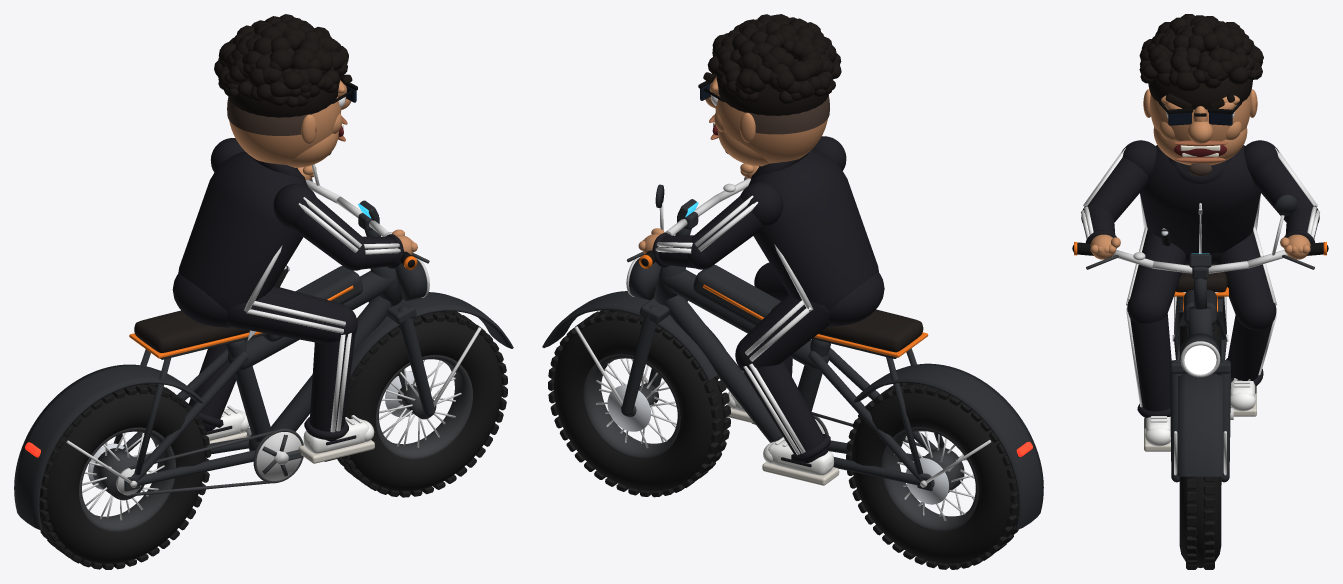
Rendered from fatbiker.glb.
3 views of the same model, side by side, from view 1: azimuth 30°, elevation 25°; view 2: azimuth 150°, elevation 25°; view 3: azimuth 270°, elevation 25° (orthographic). The views are drawn at different scales.
Parts seen in each view (by area): view 1: Bike_Frame, Bike_WheelRear, Bike_WheelFront, Rider_Torso, Rider_Hair, Rider_LegR, Rider_ArmR, Rider_Head, Rider_LegL, Bike_Crank, Bike_Handlebar, Rider_ArmL; view 2: Bike_Frame, Bike_WheelFront, Bike_WheelRear, Rider_Torso, Rider_Hair, Rider_LegL, Rider_ArmL, Rider_Head, Bike_Handlebar, Rider_LegR, Rider_ArmR; view 3: Bike_Frame, Rider_Torso, Rider_Hair, Rider_LegR, Rider_LegL, Rider_Head, Rider_ArmR, Rider_ArmL, Bike_WheelFront, Bike_Handlebar, Rider_Sunglasses, Bike_WheelRear.
Boxes of the visible parts, x1,y1,x2,y2 form: Bike_Frame: (14, 258, 513, 530); Bike_WheelRear: (39, 383, 210, 569); Bike_WheelFront: (337, 311, 507, 497); Rider_Torso: (172, 151, 308, 327); Rider_Hair: (214, 14, 348, 135); Rider_LegR: (227, 286, 374, 463); Rider_ArmR: (273, 183, 417, 270); Rider_Head: (229, 74, 352, 167); Rider_LegL: (188, 339, 249, 443); Bike_Crank: (210, 428, 348, 483); Bike_Handlebar: (306, 164, 429, 269); Rider_ArmL: (210, 138, 316, 180); Bike_Frame: (542, 257, 1043, 529); Bike_WheelFront: (548, 310, 730, 497); Bike_WheelRear: (846, 383, 1018, 569); Rider_Torso: (748, 149, 884, 326); Rider_Hair: (707, 14, 841, 134); Rider_LegL: (735, 294, 839, 485); Rider_ArmL: (638, 182, 783, 269); Rider_Head: (703, 72, 827, 166); Bike_Handlebar: (627, 176, 750, 268); Rider_LegR: (727, 262, 792, 423); Rider_ArmR: (740, 136, 846, 178); Bike_Frame: (1170, 263, 1230, 482); Rider_Torso: (1140, 145, 1260, 263); Rider_Hair: (1139, 14, 1263, 109); Rider_LegR: (1126, 227, 1186, 451); Rider_LegL: (1216, 227, 1277, 416); Rider_Head: (1143, 89, 1257, 176); Rider_ArmR: (1081, 140, 1156, 259); Rider_ArmL: (1244, 140, 1319, 259); Bike_WheelFront: (1179, 476, 1221, 569); Bike_Handlebar: (1072, 194, 1328, 309); Rider_Sunglasses: (1159, 102, 1241, 125); Bike_WheelRear: (1172, 312, 1228, 360).
Size of the model in its own units: 1.91 by 1.9 by 0.9236.
